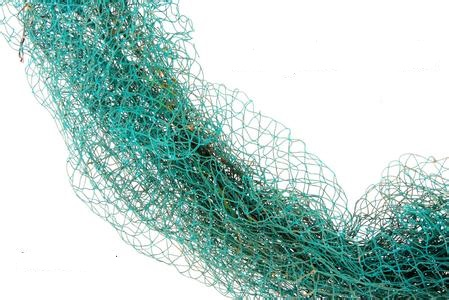net: (1, 1, 449, 300)
